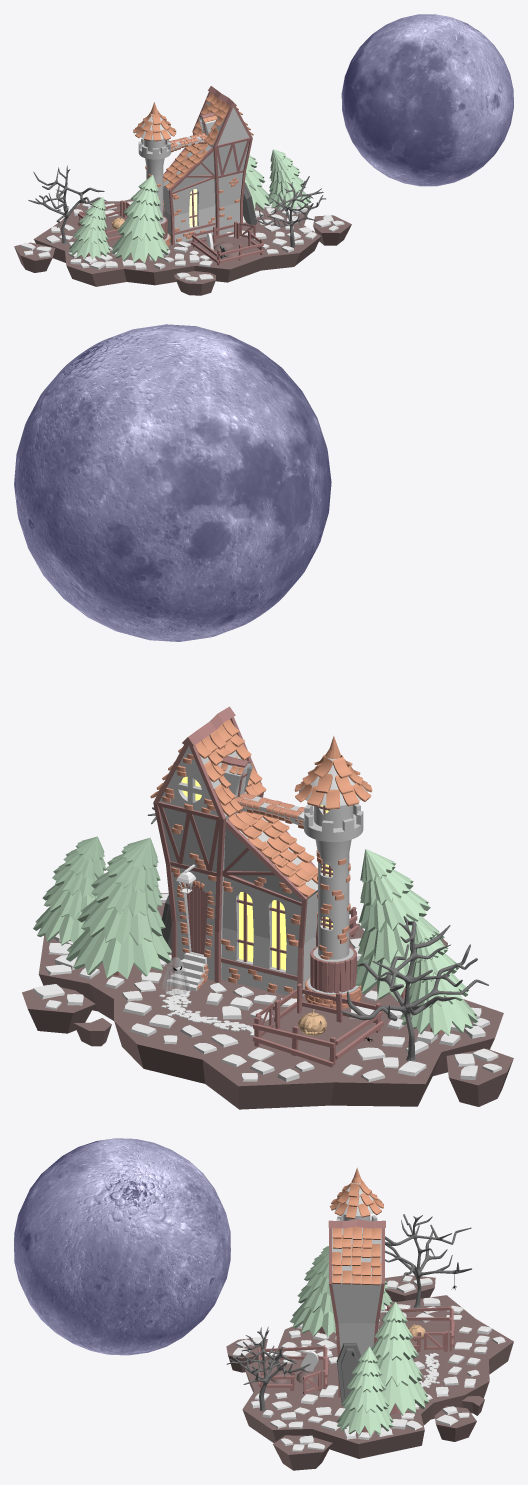
File: halloween_castle.glb
3 views of the same model, one above another, from view 1: azimuth 30°, elevation 25°; view 2: azimuth 150°, elevation 25°; view 3: azimuth 270°, elevation 25° (orthographic). The views are drawn at different scales.
Parts seen in each view (by area): view 1: MOON_15, Ground_1, Castle_2, Tile_34, Fir1_4, Shingles_25, Sheathing_8, Fir2_5, Fir4_7, Tower_0, CemeteryFence_29, Tree1_19 (+5 smaller); view 2: MOON_15, Ground_1, Castle_2, Tile_34, Fir3_6, Shingles_25, Sheathing_8, Fir1_4, Tower_0, Bricks_24, Fir4_7, Fir2_5 (+7 smaller); view 3: MOON_15, Ground_1, Tile_34, Shingles_25, Fir3_6, Castle_2, Fir4_7, Fir1_4, Tree1_19, Tree2_20, CemeteryFence_29, GardenFence_30 (+5 smaller).
Boxes of the visible parts, x1=… form: MOON_15: x1=341, y1=14, x2=513, y2=186; Ground_1: x1=14, y1=199, x2=351, y2=295; Castle_2: x1=163, y1=101, x2=249, y2=244; Tile_34: x1=20, y1=201, x2=344, y2=281; Fir1_4: x1=111, y1=174, x2=169, y2=263; Shingles_25: x1=133, y1=93, x2=253, y2=188; Sheathing_8: x1=163, y1=92, x2=252, y2=245; Fir2_5: x1=69, y1=197, x2=110, y2=259; Fir4_7: x1=268, y1=149, x2=311, y2=210; Tower_0: x1=136, y1=102, x2=171, y2=240; CemeteryFence_29: x1=191, y1=221, x2=263, y2=265; Tree1_19: x1=28, y1=165, x2=106, y2=243; MOON_15: x1=14, y1=324, x2=331, y2=641; Ground_1: x1=22, y1=893, x2=513, y2=1109; Castle_2: x1=159, y1=735, x2=317, y2=995; Tile_34: x1=32, y1=893, x2=501, y2=1081; Fir3_6: x1=66, y1=837, x2=171, y2=978; Shingles_25: x1=150, y1=719, x2=372, y2=897; Sheathing_8: x1=153, y1=717, x2=317, y2=998; Fir1_4: x1=355, y1=849, x2=453, y2=1001; Tower_0: x1=299, y1=736, x2=368, y2=1007; Bricks_24: x1=162, y1=753, x2=361, y2=1008; Fir4_7: x1=33, y1=836, x2=106, y2=945; Fir2_5: x1=400, y1=921, x2=477, y2=1036; MOON_15: x1=14, y1=1138, x2=230, y2=1355; Ground_1: x1=226, y1=1275, x2=513, y2=1470; Tile_34: x1=232, y1=1274, x2=505, y2=1451; Shingles_25: x1=329, y1=1181, x2=383, y2=1285; Fir3_6: x1=371, y1=1302, x2=429, y2=1415; Castle_2: x1=332, y1=1227, x2=381, y2=1355; Fir4_7: x1=337, y1=1346, x2=393, y2=1435; Fir1_4: x1=290, y1=1246, x2=335, y2=1337; Tree1_19: x1=385, y1=1214, x2=471, y2=1308; Tree2_20: x1=226, y1=1326, x2=310, y2=1411; CemeteryFence_29: x1=258, y1=1345, x2=328, y2=1394; GardenFence_30: x1=385, y1=1305, x2=455, y2=1351.
Size of what is drawn, in the model's own units: 29.6 by 20.16 by 27.48.
19 materials, 2 textured.
